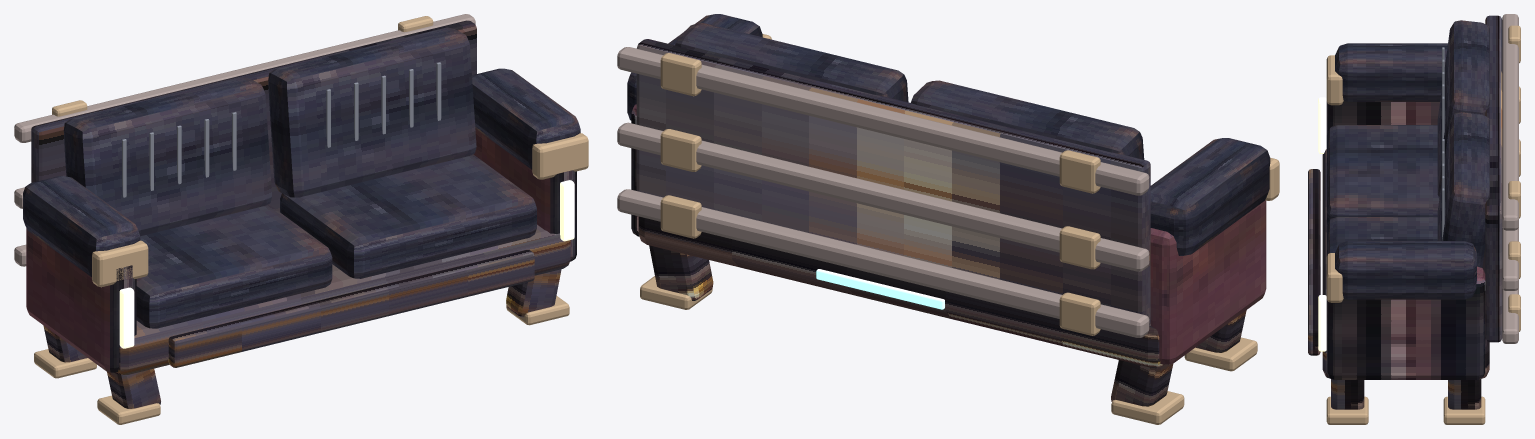
The picture shows the model from 3 angles, left to right: view 1: azimuth 30°, elevation 25°; view 2: azimuth 150°, elevation 25°; view 3: azimuth 270°, elevation 25°; orthographic projection. The views are drawn at different scales.
Parts seen in each view (by area): view 1: rounded padded back.001, rounded padded back, rounded seat cushion.001, rounded seat cushion, front apron, armored side, seat chassis, soft rounded arm, soft rounded arm.001, rear shell, armored side.001, rear crossrail.002 (+10 smaller); view 2: rear shell, seat chassis, armored side, rear crossrail.001, rear crossrail, rear crossrail.002, soft rounded arm, rounded padded back, rounded padded back.001, angled bracket foot.002, angled bracket foot, rear soft lamp (+11 smaller); view 3: armored side.001, rounded seat cushion, soft rounded arm.001, soft rounded arm, rounded padded back.001, rear shell, rounded padded back, rear crossrail.002, rounded seat cushion.001, armored side, front apron, seat chassis (+14 smaller).
Boxes of the visible parts, x1,y1,x2,y2 form: rounded padded back.001: (268, 27, 476, 197); rounded padded back: (63, 77, 271, 236); rounded seat cushion.001: (280, 154, 536, 278); rounded seat cushion: (136, 204, 332, 328); front apron: (168, 250, 534, 367); armored side: (26, 228, 136, 372); seat chassis: (115, 224, 570, 375); soft rounded arm: (23, 176, 140, 276); soft rounded arm.001: (472, 68, 580, 169); rear shell: (31, 20, 476, 211); armored side.001: (473, 128, 576, 261); rear crossrail.002: (14, 14, 475, 142); rear shell: (636, 39, 1150, 324); seat chassis: (638, 216, 1163, 367); armored side: (1149, 200, 1266, 364); rear crossrail.001: (617, 122, 1149, 271); rear crossrail: (617, 189, 1149, 337); rear crossrail.002: (617, 47, 1149, 195); soft rounded arm: (1150, 138, 1270, 255); rounded padded back: (911, 80, 1144, 159); rounded padded back.001: (675, 23, 908, 102); angled bracket foot.002: (649, 245, 713, 300); angled bracket foot: (1111, 360, 1173, 406); rear soft lamp: (816, 269, 944, 309); armored side.001: (1326, 266, 1485, 379); rounded seat cushion: (1326, 125, 1439, 226); soft rounded arm.001: (1335, 241, 1476, 299); soft rounded arm: (1335, 43, 1447, 101); rounded padded back.001: (1437, 112, 1489, 267); rear shell: (1485, 15, 1502, 342); rounded padded back: (1437, 20, 1489, 199); rear crossrail.002: (1502, 14, 1518, 230); rounded seat cushion.001: (1326, 217, 1437, 256); armored side: (1326, 101, 1439, 134); front apron: (1308, 169, 1320, 355); seat chassis: (1322, 149, 1489, 378).
Bounding box in the file's own units: 125 × 58.2 × 51.
Materials: 9 (4 with a texture image).
